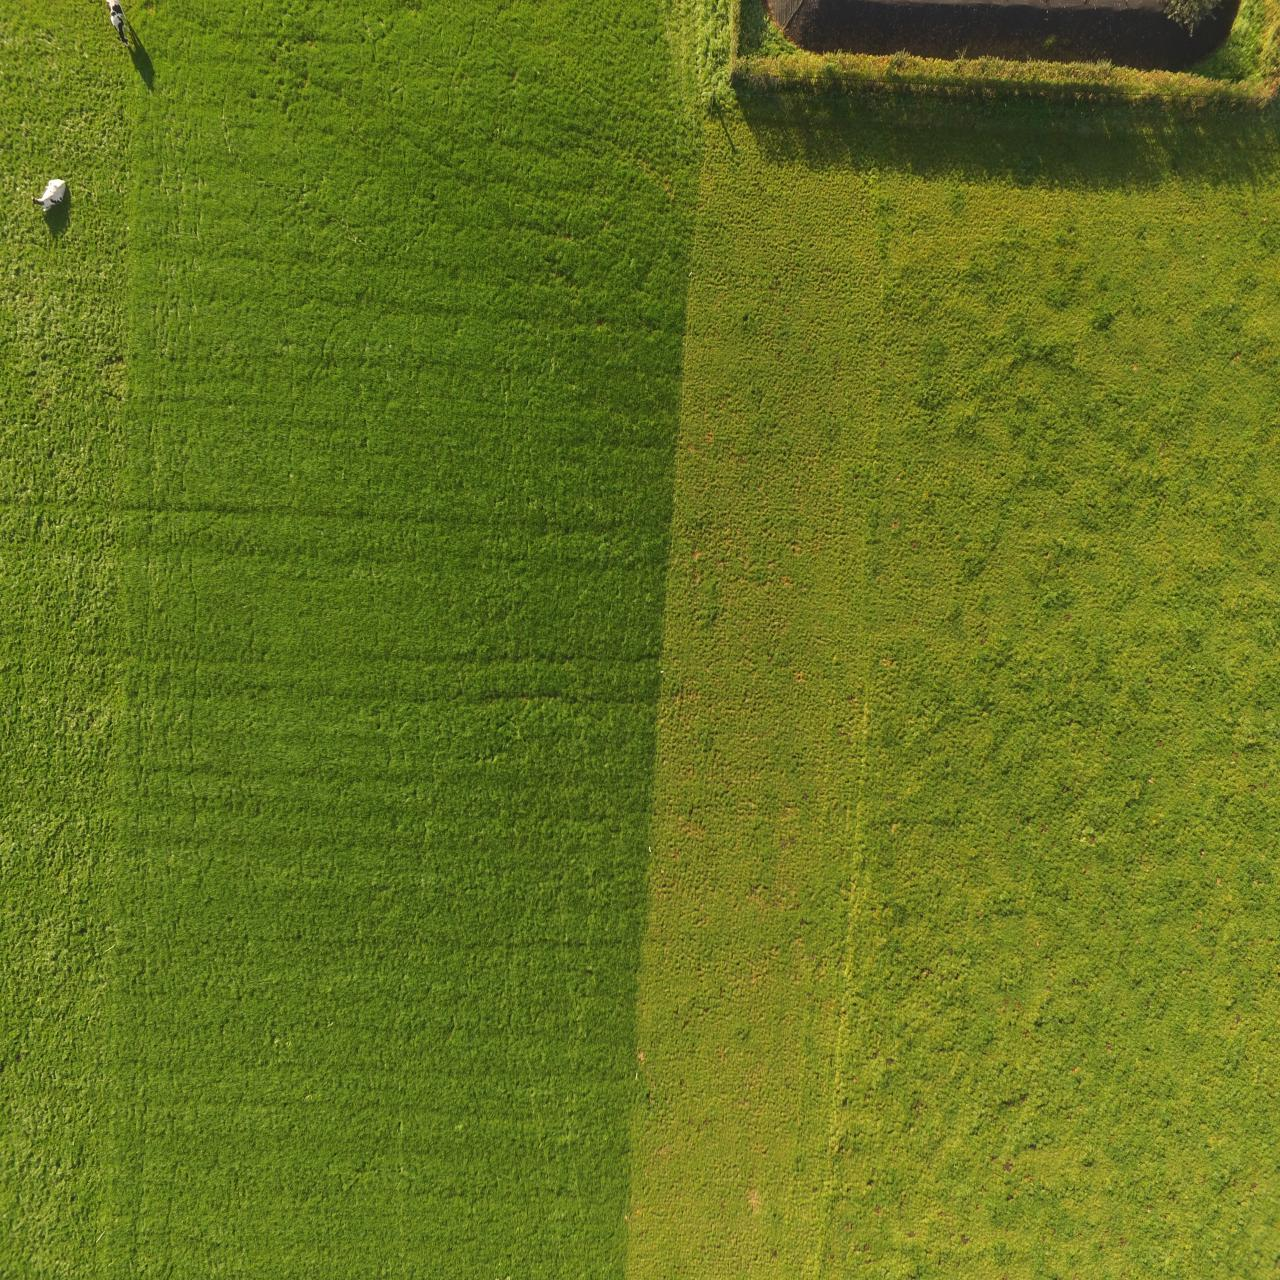cow: (98, 2, 136, 48), (32, 172, 72, 211)
